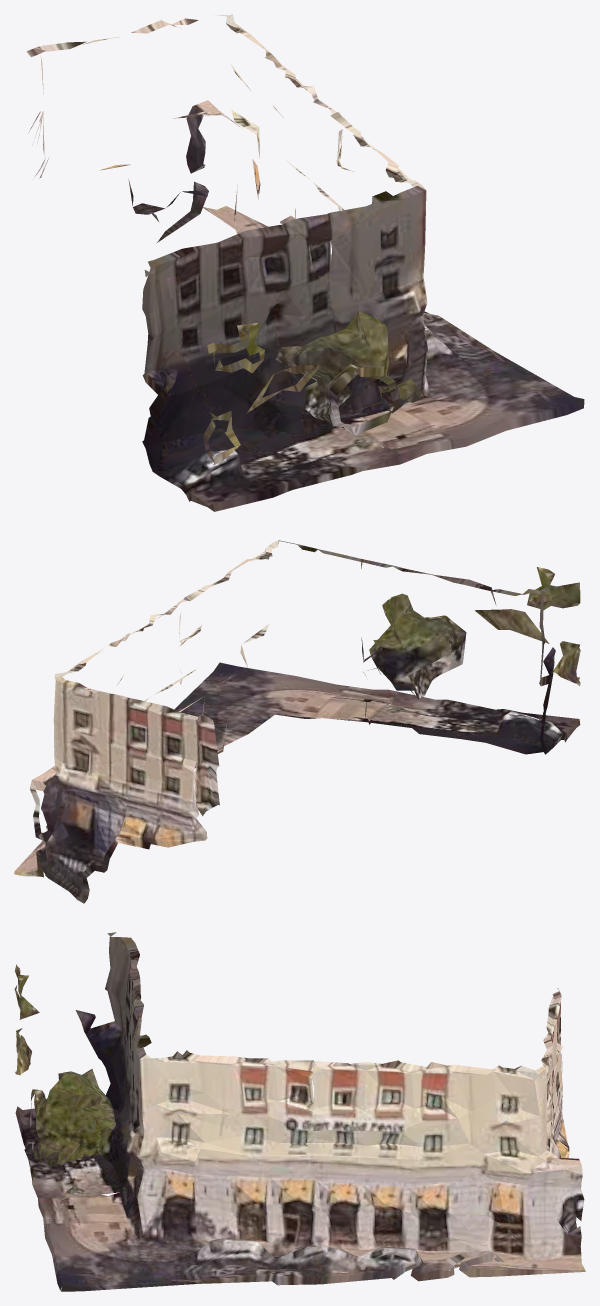
3 views of the same model, one above another, from view 1: azimuth 30°, elevation 25°; view 2: azimuth 150°, elevation 25°; view 3: azimuth 270°, elevation 25° (orthographic). The views are drawn at different scales.
Parts seen in each view (by area): view 1: Mesh_0; view 2: Mesh_0; view 3: Mesh_0.
Boxes of the visible parts, bbox=[...] form: Mesh_0: bbox=[26, 14, 584, 511]; Mesh_0: bbox=[14, 540, 580, 903]; Mesh_0: bbox=[14, 932, 585, 1291].
Bounding box in the file's own units: 30.05 × 17.35 × 41.5.
1 material, 1 textured.
